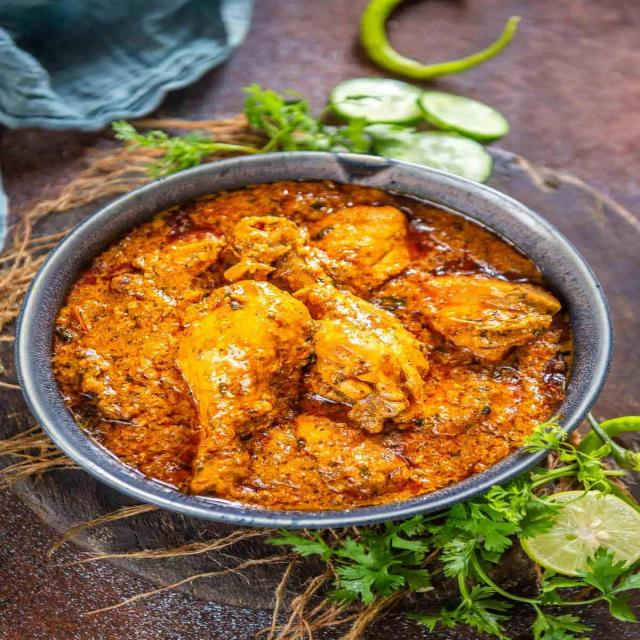chicken: (42, 186, 594, 514)
